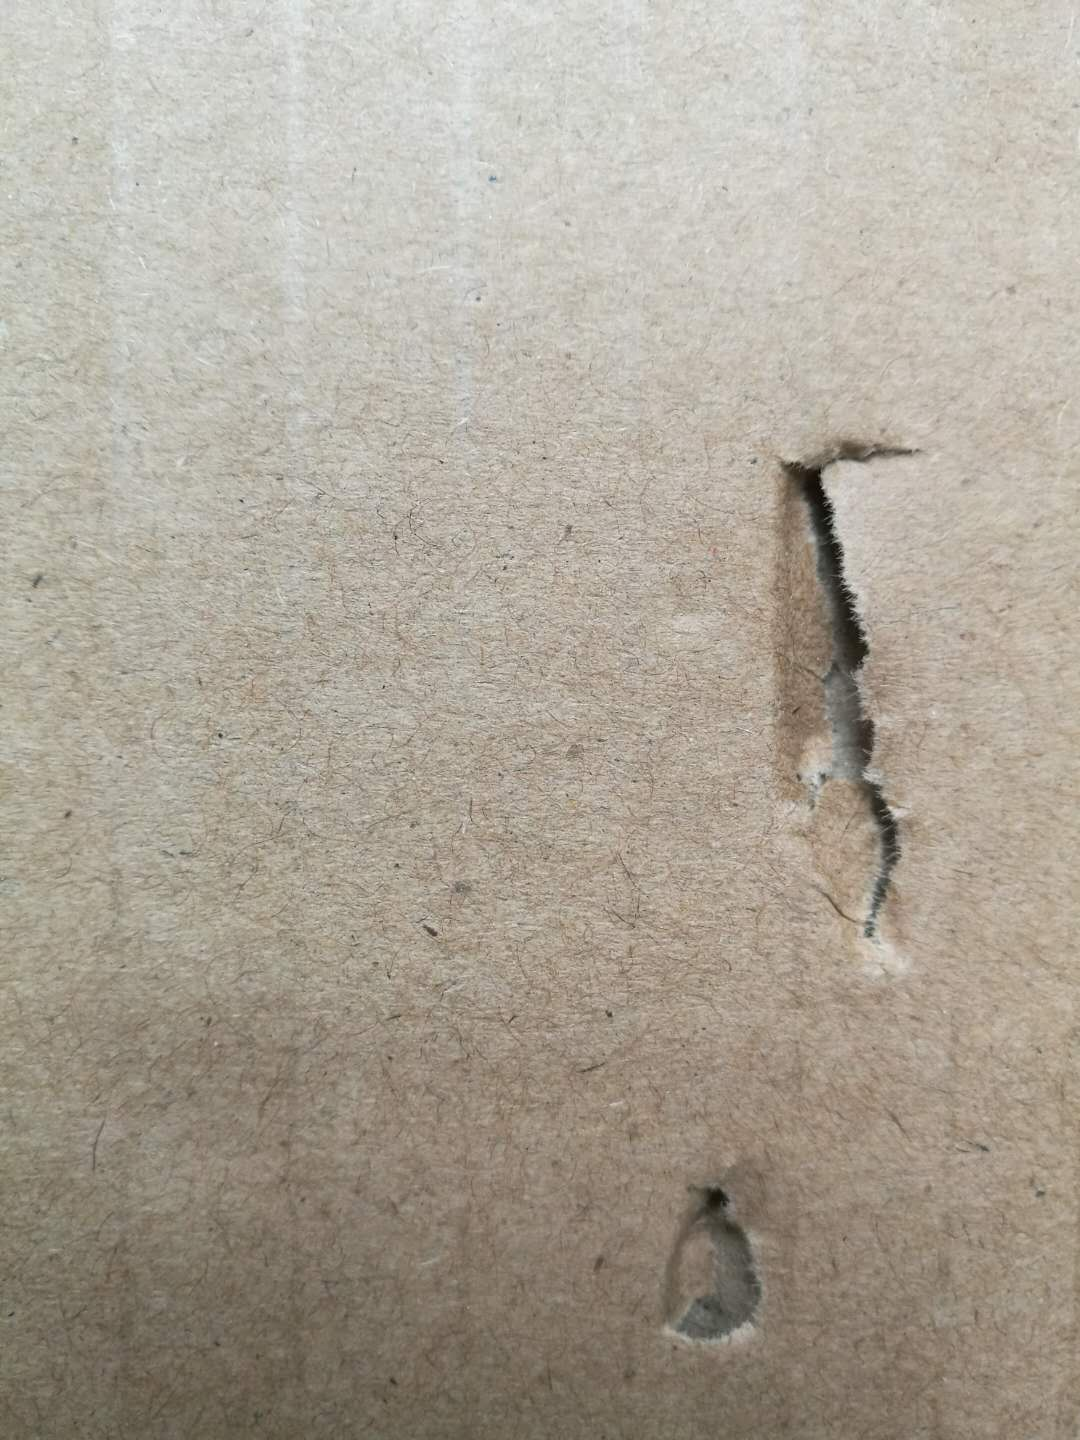defect: (691, 388, 997, 1022), (631, 1157, 798, 1372)
